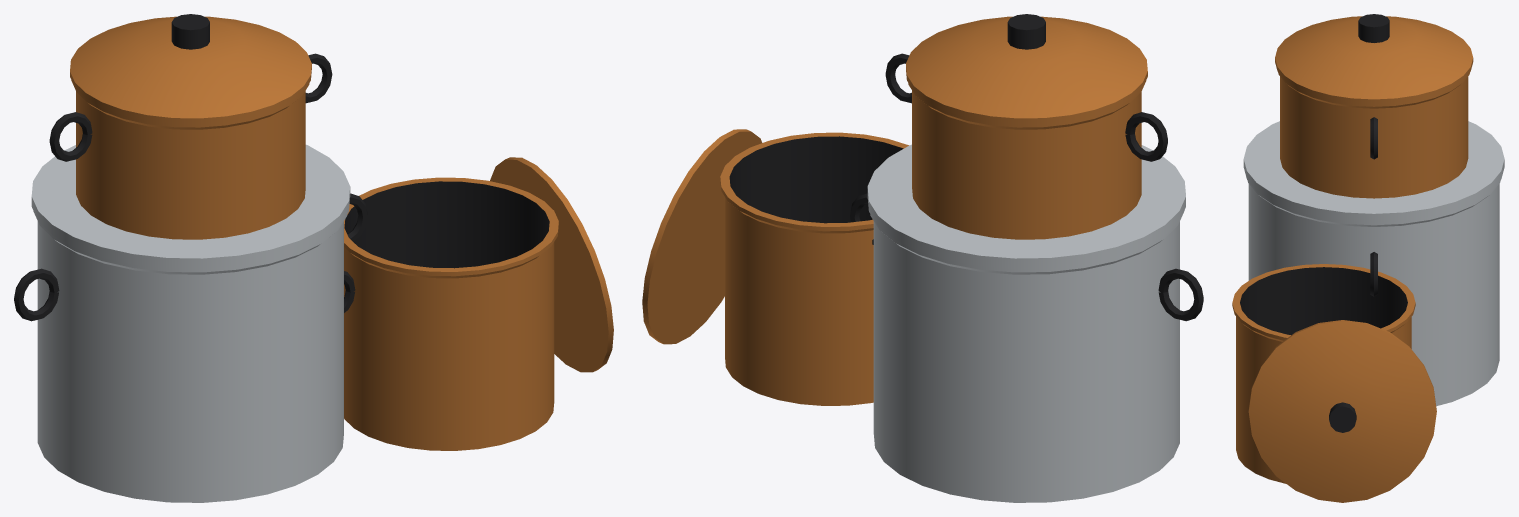
Rendered from stockpot_stack.glb.
The picture shows the model from 3 angles, left to right: view 1: azimuth 30°, elevation 25°; view 2: azimuth 150°, elevation 25°; view 3: azimuth 270°, elevation 25°; orthographic projection. The views are drawn at different scales.
Visible parts, largest first — view 1: pot_steel, pot_copper_side, pot_copper_top, lid_loose; view 2: pot_steel, pot_copper_top, pot_copper_side, lid_loose; view 3: pot_steel, pot_copper_top, lid_loose, pot_copper_side.
Part boxes in pixels (x1,y1,x2,y2): pot_steel: (14,144,367,502); pot_copper_side: (344,177,558,450); pot_copper_top: (49,14,332,239); lid_loose: (490,157,613,372); pot_steel: (850,144,1203,502); pot_copper_top: (885,14,1167,239); pot_copper_side: (720,132,908,405); lid_loose: (642,129,762,344); pot_steel: (1243,121,1504,405); pot_copper_top: (1275,14,1473,198); lid_loose: (1248,320,1436,502); pot_copper_side: (1232,264,1415,483).
Size of the model in its own units: 0.833 by 0.598 by 0.434.
